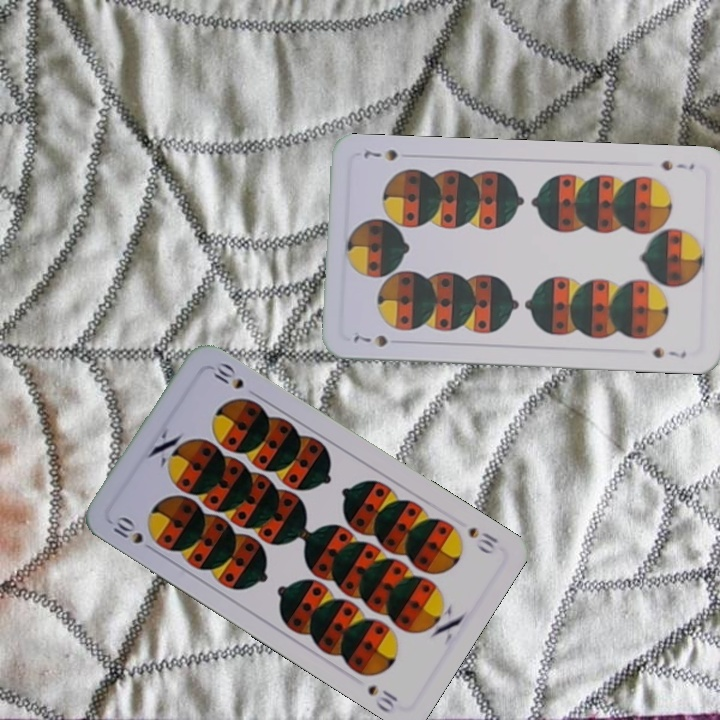S10: (109, 512, 159, 555), (464, 523, 501, 557)
S7: (349, 330, 390, 350), (658, 156, 697, 174)
